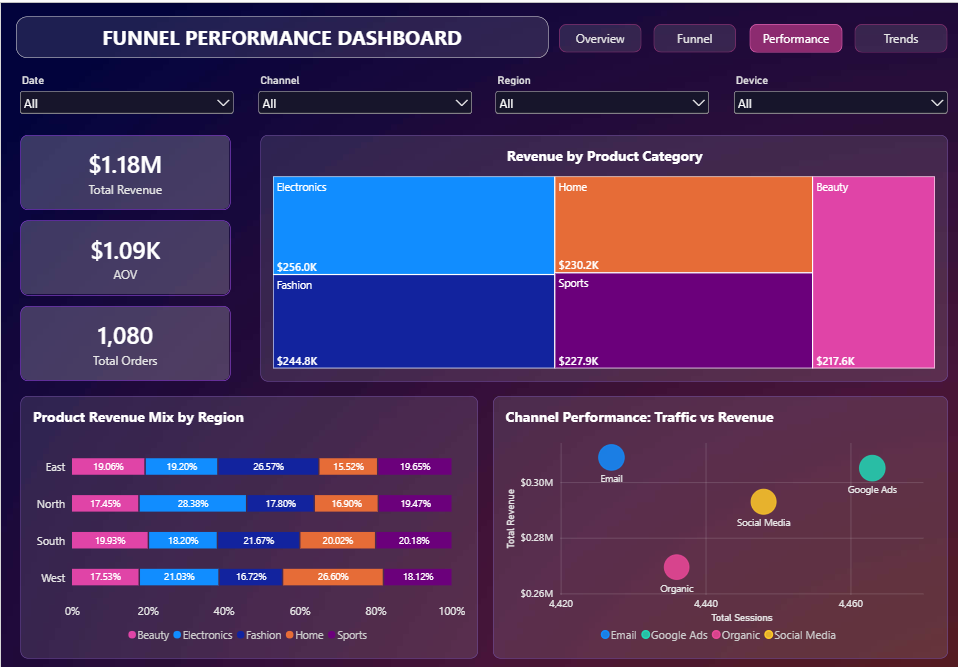

The page's visual inventory and layout, read from the dashboard file:
{"tool":"powerbi","page":{"name":"Performance Analysis","canvas":[1280,950],"ordinal":2},"visuals":[{"type":"actionButton","box":[743.7,27.5,110,38],"z":0},{"type":"actionButton","box":[870.5,27.5,110,38],"z":1000},{"type":"actionButton","box":[997.3,27.4,124.1,38.2],"z":2000},{"type":"actionButton","box":[1138.2,27.5,124.1,38.2],"z":3000},{"type":"cardVisual","fields":{"Data":["_Measures.Total Revenue"]},"box":[26.7,175,280,100],"z":4000},{"type":"textbox","box":[20,18.3,710,55],"z":5000},{"type":"slicer","fields":{"Values":["funnel_analysis_data.Date"]},"box":[20,93.6,295,55],"z":6000},{"type":"slicer","fields":{"Values":["funnel_analysis_data.Channel"]},"box":[337.2,93.6,295,55],"z":7000},{"type":"slicer","fields":{"Values":["funnel_analysis_data.Region"]},"box":[654.4,93.6,295,55],"z":8000},{"type":"slicer","fields":{"Values":["funnel_analysis_data.Device"]},"box":[971.7,93.6,295,55],"z":9000},{"type":"cardVisual","fields":{"Data":["_Measures.AOV"]},"box":[26.7,289.2,280,100],"z":10000},{"type":"cardVisual","fields":{"Data":["_Measures.Total Orders"]},"box":[26.7,403.3,280,100],"z":11000},{"type":"treemap","title":"Revenue by Product Category","fields":{"Group":["funnel_analysis_data.Product_Category"],"Values":["_Measures.Total Revenue"]},"box":[345,175,916.7,328.3],"z":12000},{"type":"hundredPercentStackedBarChart","title":"Product Revenue Mix by Region","fields":{"Category":["funnel_analysis_data.Region"],"Series":["funnel_analysis_data.Product_Category"],"Y":["_Measures.Total Revenue"]},"box":[26.7,523.3,610,350],"z":13000},{"type":"scatterChart","title":"Channel Performance: Traffic vs Revenue","fields":{"Series":["funnel_analysis_data.Channel"],"Size":["_Measures.Total Orders"],"X":["_Measures.Total Sessions"],"Y":["_Measures.Total Revenue"]},"box":[655,523.3,606.7,350],"z":13001}]}

Visuals, with their boxes on the page's 1280x950 design canvas (x1, y1, x2, y2). These are canvas units, not pixel positions in the 958x667 screenshot, which may show the page scaled, cropped or inside an application window:
actionButton: BBox(744, 28, 854, 66)
actionButton: BBox(870, 28, 980, 66)
actionButton: BBox(997, 27, 1121, 66)
actionButton: BBox(1138, 28, 1262, 66)
cardVisual - _Measures.Total Revenue: BBox(27, 175, 307, 275)
textbox: BBox(20, 18, 730, 73)
slicer - funnel_analysis_data.Date: BBox(20, 94, 315, 149)
slicer - funnel_analysis_data.Channel: BBox(337, 94, 632, 149)
slicer - funnel_analysis_data.Region: BBox(654, 94, 949, 149)
slicer - funnel_analysis_data.Device: BBox(972, 94, 1267, 149)
cardVisual - _Measures.AOV: BBox(27, 289, 307, 389)
cardVisual - _Measures.Total Orders: BBox(27, 403, 307, 503)
"Revenue by Product Category" treemap: BBox(345, 175, 1262, 503)
"Product Revenue Mix by Region" hundredPercentStackedBarChart: BBox(27, 523, 637, 873)
"Channel Performance: Traffic vs Revenue" scatterChart: BBox(655, 523, 1262, 873)
